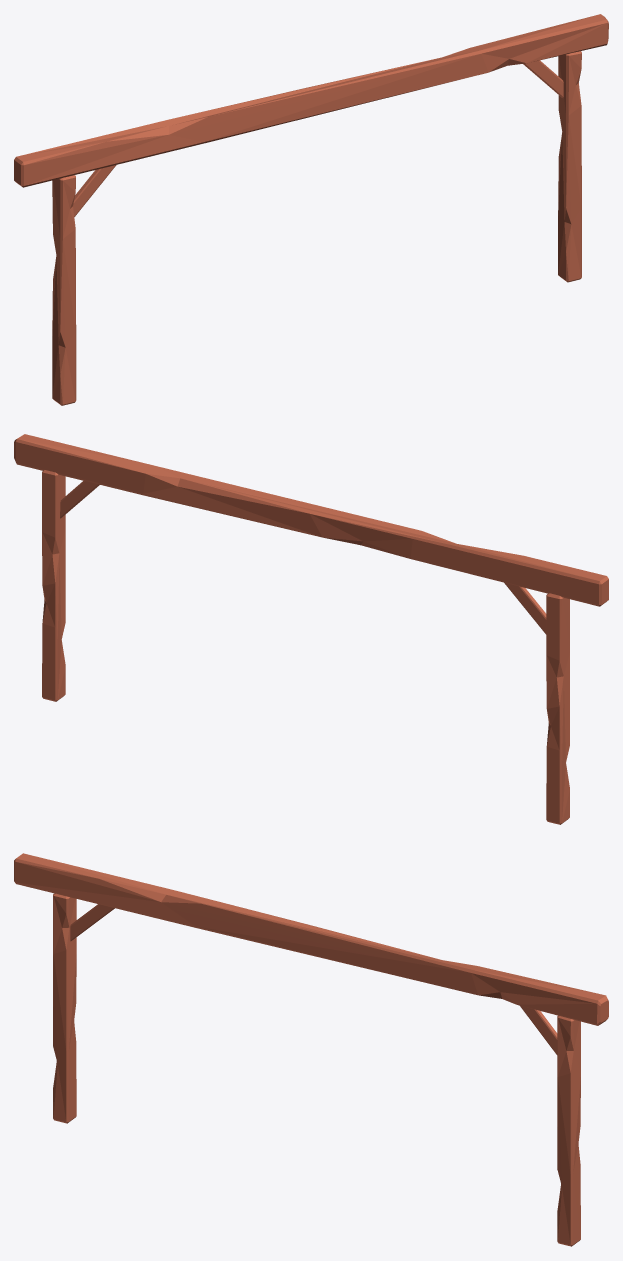
File: Entrance.fbx
The picture shows the model from 3 angles, top to bottom: view 1: azimuth 30°, elevation 25°; view 2: azimuth 150°, elevation 25°; view 3: azimuth 330°, elevation 25°; orthographic projection.
Visible parts, largest first — view 1: SM_Prop_Entrance_02; view 2: SM_Prop_Entrance_02; view 3: SM_Prop_Entrance_02.
Boxes of the visible parts, bbox=[...] form: SM_Prop_Entrance_02: bbox=[14, 14, 608, 405]; SM_Prop_Entrance_02: bbox=[14, 434, 608, 824]; SM_Prop_Entrance_02: bbox=[14, 853, 608, 1246].
Size of the model in its own units: 704 by 289 by 20.83.
